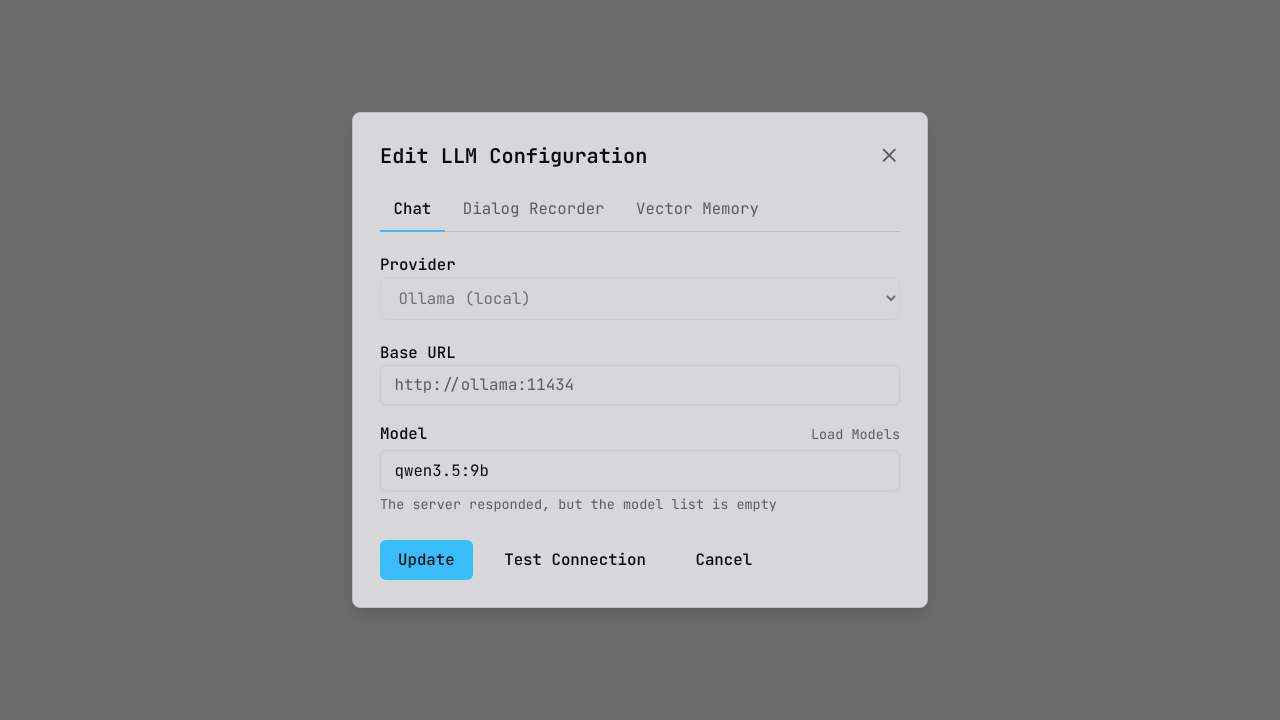
it: LLMConfigDialog embedding fields › S1.3 — an existing embedding model pre-fills the field
Step 1. Click the button "Vector Memory" → (698, 210), box [623,189,772,232]
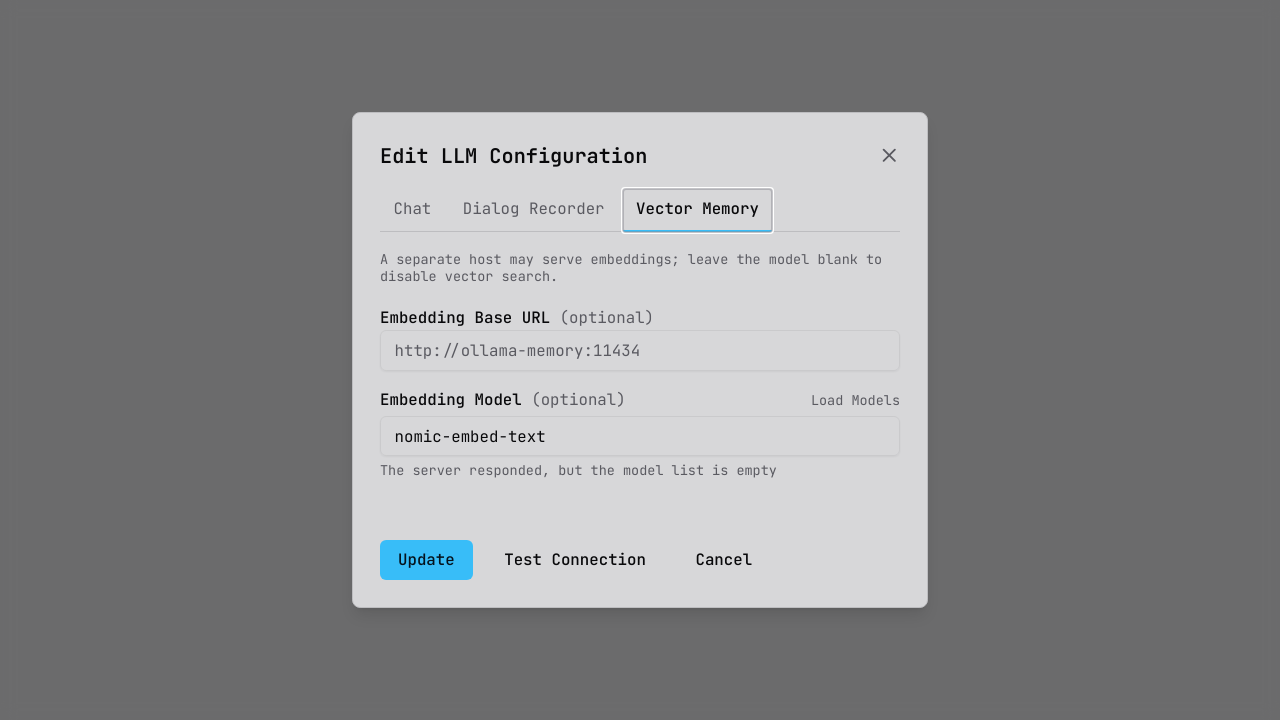
Check: the field showing "nomic-embed-text" is shown, box [380,416,900,456]
